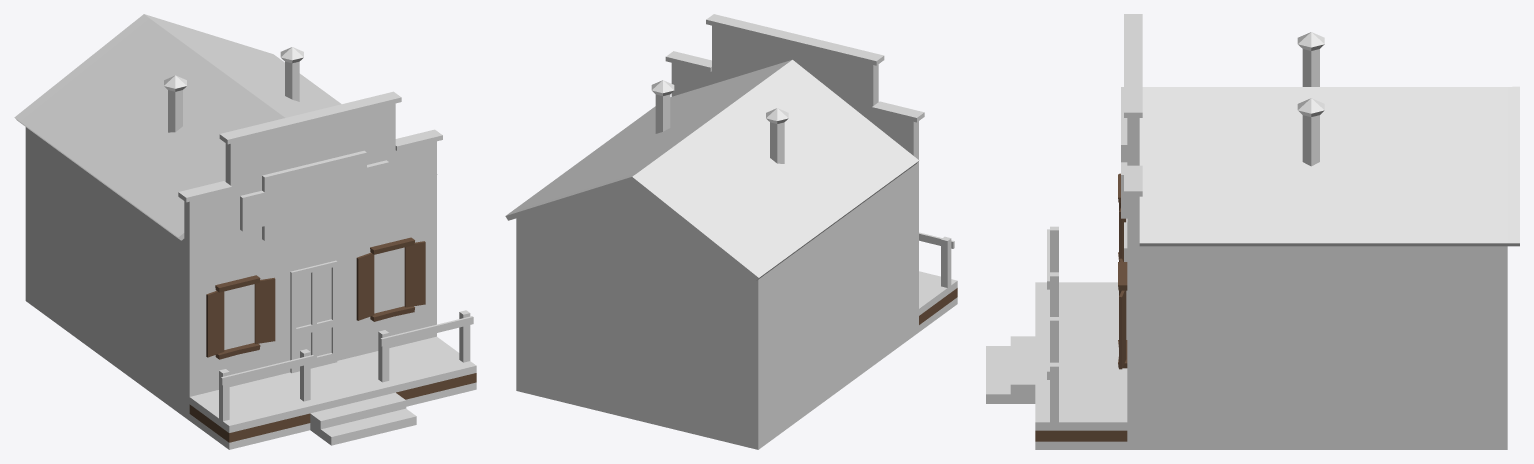
Rendered from western-house-gunsmith.fbx.
The picture shows the model from 3 angles, left to right: view 1: azimuth 30°, elevation 25°; view 2: azimuth 150°, elevation 25°; view 3: azimuth 270°, elevation 25°; orthographic projection. The views are drawn at different scales.
Visible parts, largest first — view 1: western-house-gunsmith; view 2: western-house-gunsmith; view 3: western-house-gunsmith.
Part boxes in pixels (<box>): western-house-gunsmith: <box>14,14,476,449</box>; western-house-gunsmith: <box>505,14,957,449</box>; western-house-gunsmith: <box>986,14,1519,449</box>.
Size of the model in its own units: 5.66 by 5.7 by 8.7.
